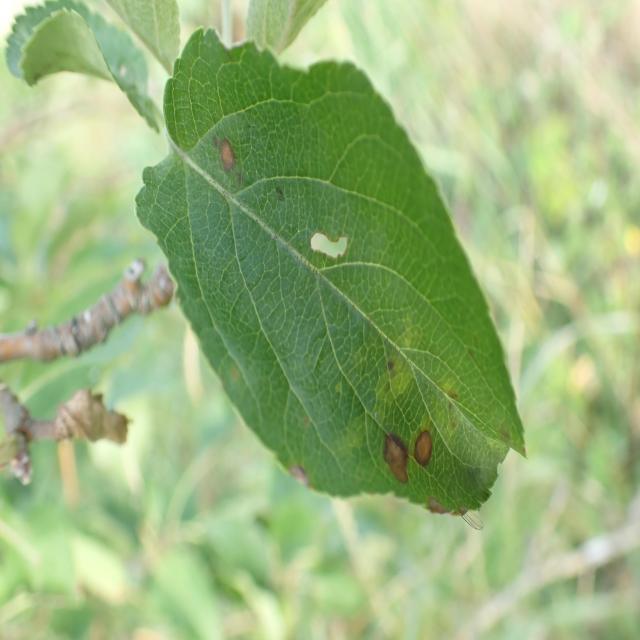Black Rot: (306, 219, 362, 286), (382, 418, 417, 510), (422, 476, 468, 546), (411, 403, 439, 495), (214, 115, 245, 195)
